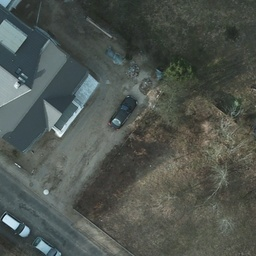car: (108, 95, 135, 129), (1, 214, 30, 238)
